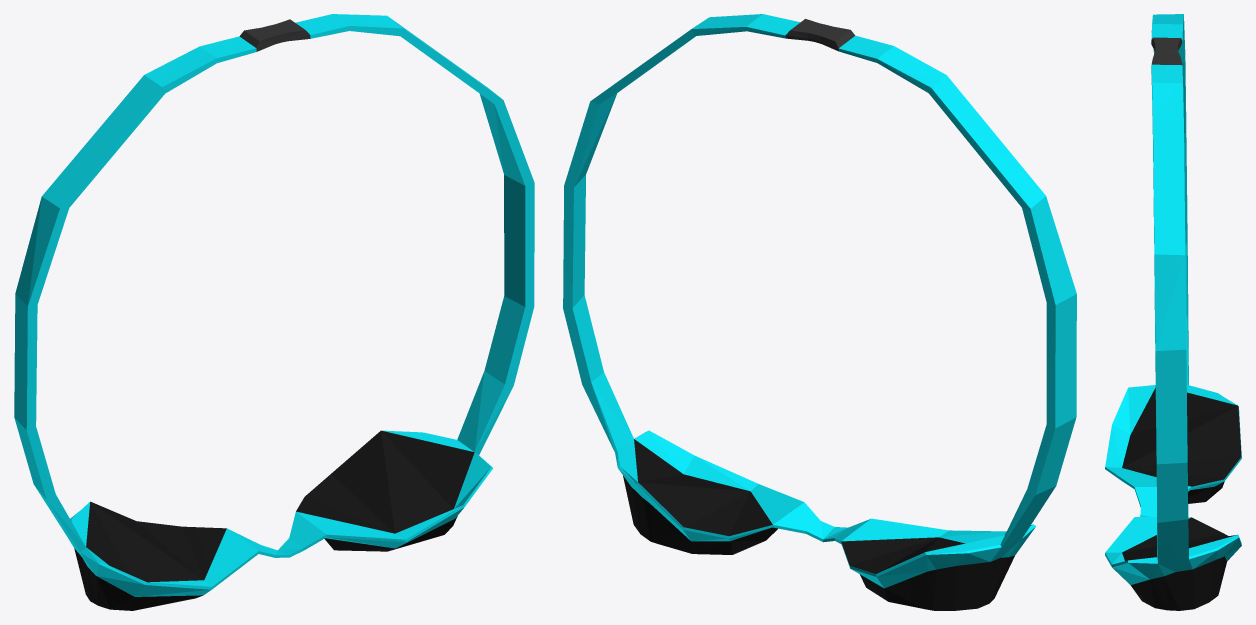
Rendered from BadGlasses.glb.
3 renders of one model, left to right at view 1: azimuth 30°, elevation 25°; view 2: azimuth 150°, elevation 25°; view 3: azimuth 270°, elevation 25°, orthographic. The views are drawn at different scales.
Parts seen in each view (by area): view 1: BadGlasses; view 2: BadGlasses; view 3: BadGlasses.
Boxes of the visible parts, x1,y1,x2,y2 form: BadGlasses: (14, 14, 534, 610); BadGlasses: (563, 14, 1076, 610); BadGlasses: (1105, 14, 1241, 610).
Size of the model in its own units: 0.1882 by 0.1889 by 0.0483.
1 material, 1 textured.
